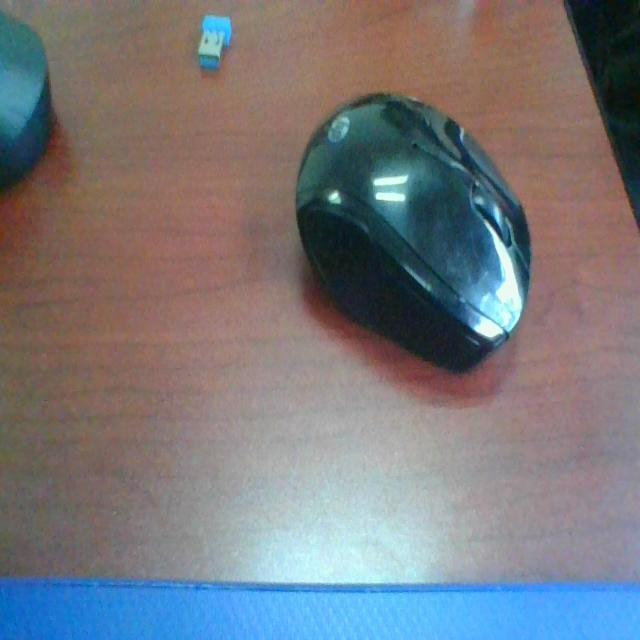mouse: (288, 82, 567, 422)
